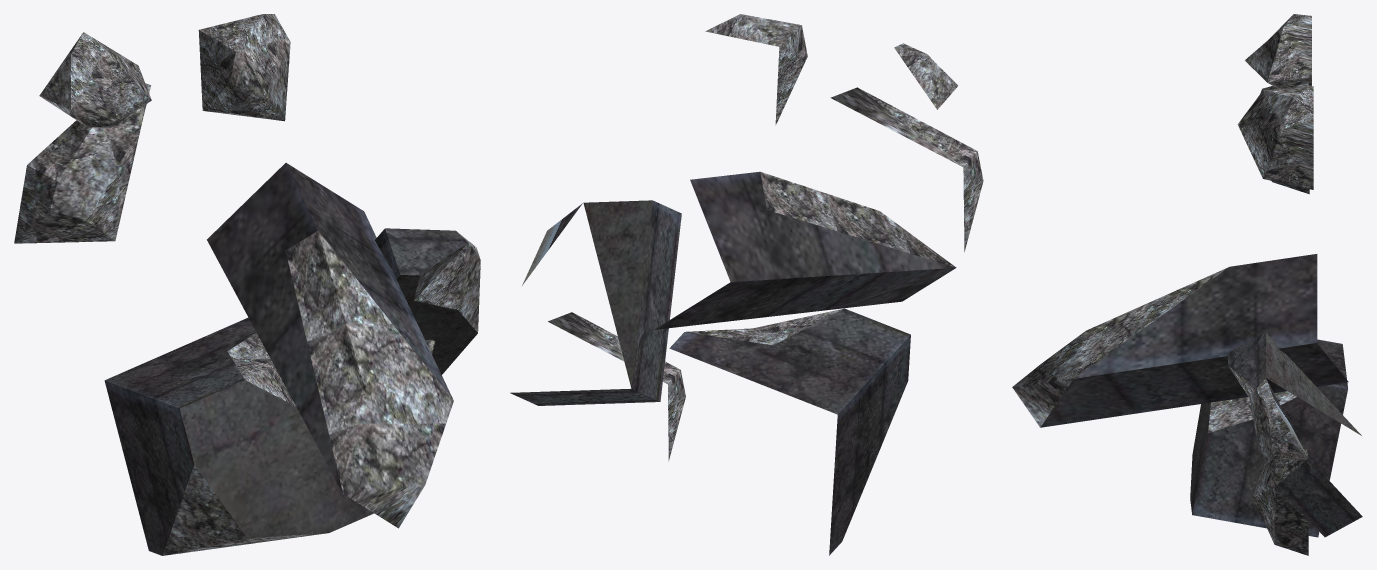
3 renders of one model, left to right at view 1: azimuth 30°, elevation 25°; view 2: azimuth 150°, elevation 25°; view 3: azimuth 270°, elevation 25°, orthographic. The views are drawn at different scales.
Visible parts, largest first — view 1: model_Object30; view 2: model_Object30; view 3: model_Object30.
Boxes of the visible parts, x1=… form: model_Object30: x1=14, y1=14, x2=480, y2=555; model_Object30: x1=510, y1=14, x2=983, y2=555; model_Object30: x1=1012, y1=14, x2=1362, y2=555.
Size of the model in its own units: 2.7 by 3.04 by 2.15.
2 materials, 2 textured.
